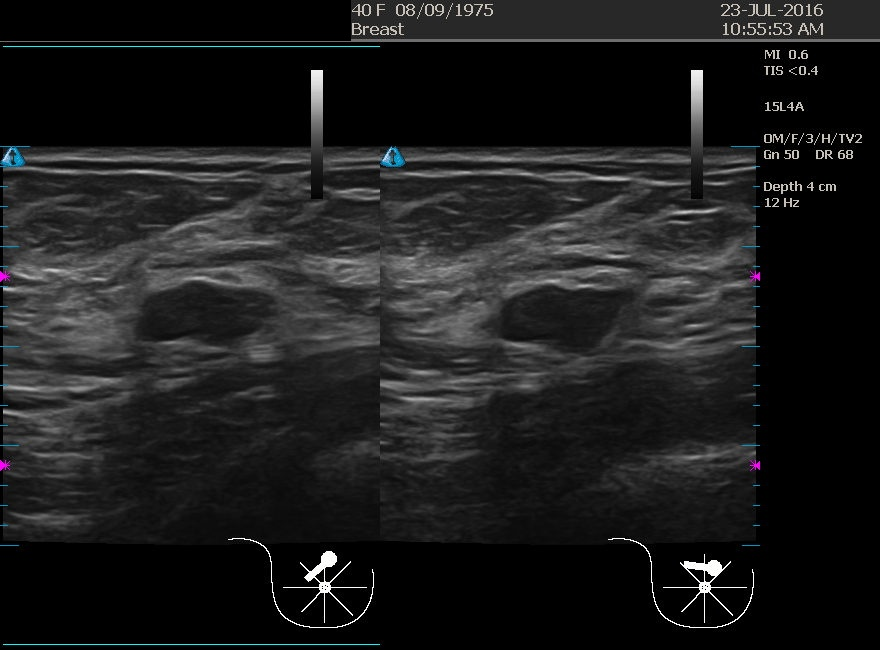BIRADS_4: (108, 229, 308, 429), (467, 216, 667, 416)
